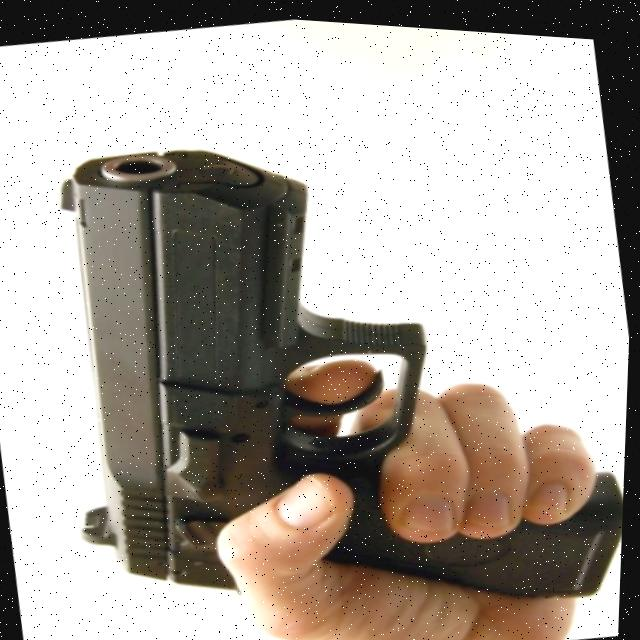pistol: (24, 102, 473, 624)
